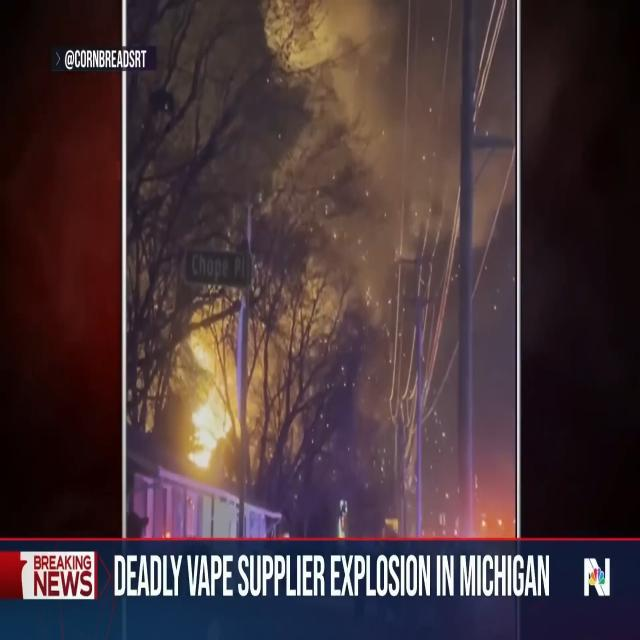fire: (172, 310, 270, 490)
